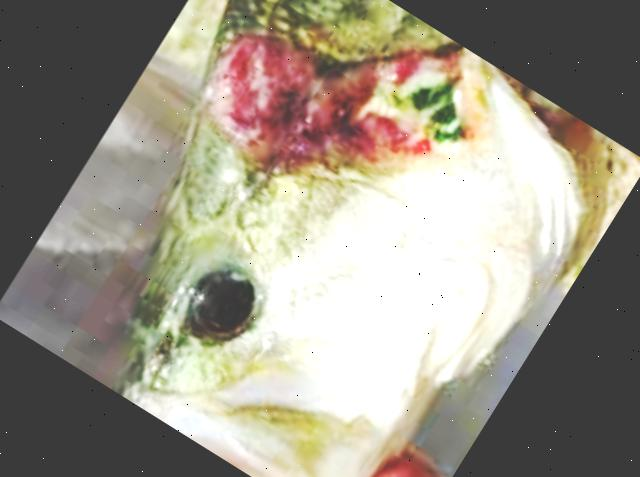Epizootic Ulcerative Syndrome -EUS-: (122, 0, 640, 477), (122, 0, 607, 477)
